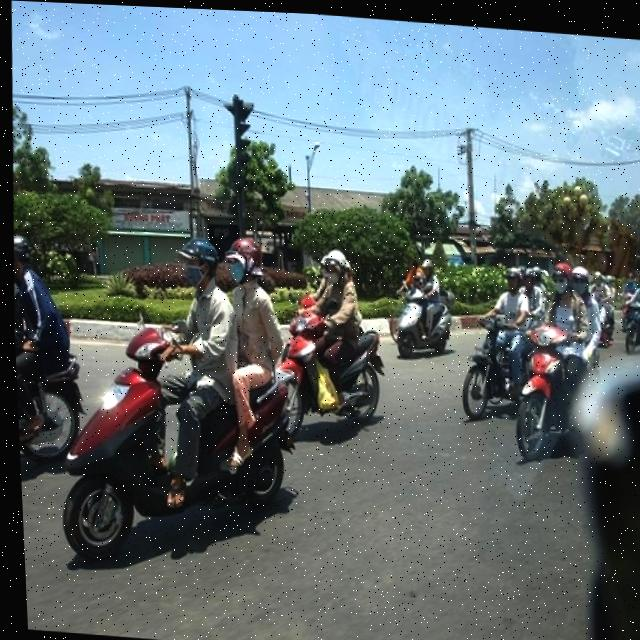motorcycle: (48, 299, 302, 589), (269, 298, 394, 453), (14, 308, 90, 491), (504, 314, 577, 469), (459, 309, 512, 426), (390, 281, 454, 361)
